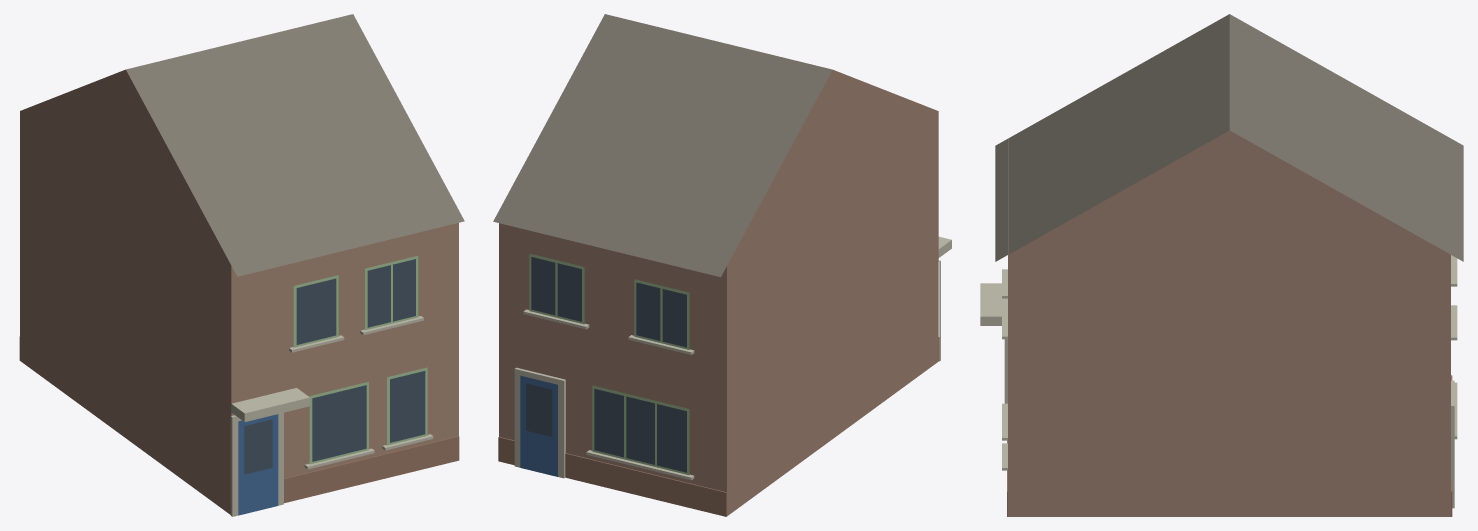
File: zo-rb-pair-door__red__2__gable__long__solid.glb
The picture shows the model from 3 angles, left to right: view 1: azimuth 30°, elevation 25°; view 2: azimuth 150°, elevation 25°; view 3: azimuth 270°, elevation 25°; orthographic projection. The views are drawn at different scales.
Parts seen in each view (by area): view 1: zo-rb-pair-door__red__2__gable__long__solid; view 2: zo-rb-pair-door__red__2__gable__long__solid; view 3: zo-rb-pair-door__red__2__gable__long__solid.
Part boxes in pixels (<box>): zo-rb-pair-door__red__2__gable__long__solid: <box>19,14,464,516</box>; zo-rb-pair-door__red__2__gable__long__solid: <box>493,14,951,516</box>; zo-rb-pair-door__red__2__gable__long__solid: <box>980,14,1463,516</box>.
Bounding box in the file's own units: 5.44 × 8.41 × 9.53.
